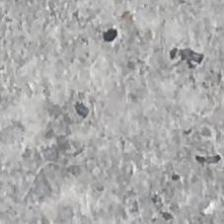Non_Crack: (28, 61, 224, 224)
